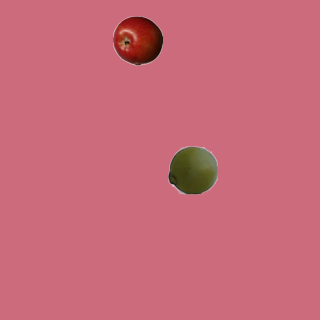Apple Braeburn: (112, 15, 162, 65)
Grape White 4: (167, 144, 217, 194)
